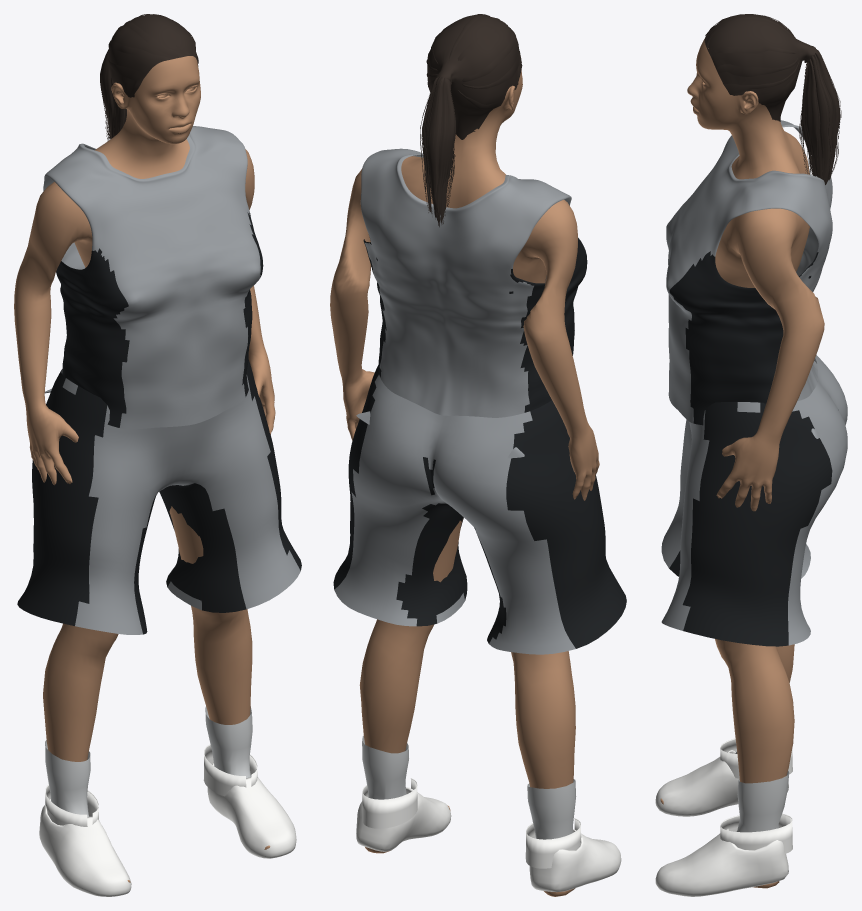
File: mskba-female-player-v1-C_A-jYPE.glb
3 renders of one model, left to right at view 1: azimuth 30°, elevation 25°; view 2: azimuth 150°, elevation 25°; view 3: azimuth 270°, elevation 25°, orthographic. The views are drawn at different scales.
Visible parts, largest first — view 1: MSKBA_Uniform_Jersey_Mesh, MSKBA_Uniform_Shorts_Mesh, Body, MSKBA_Shoes_Primary_Mesh, MSKBA_Hair_Female_Ponytail_Mesh, MSKBA_Shoes_Accent_Mesh; view 2: MSKBA_Uniform_Shorts_Mesh, MSKBA_Uniform_Jersey_Mesh, Body, MSKBA_Hair_Female_Ponytail_Mesh, MSKBA_Shoes_Primary_Mesh, MSKBA_Shoes_Accent_Mesh; view 3: MSKBA_Uniform_Shorts_Mesh, Body, MSKBA_Uniform_Jersey_Mesh, MSKBA_Shoes_Primary_Mesh, MSKBA_Hair_Female_Ponytail_Mesh, MSKBA_Shoes_Accent_Mesh.
Part boxes in pixels (left/top/right/bottom): MSKBA_Uniform_Jersey_Mesh: left=43, top=126, right=263, bottom=429; MSKBA_Uniform_Shorts_Mesh: left=17, top=360, right=301, bottom=634; Body: left=14, top=56, right=275, bottom=882; MSKBA_Shoes_Primary_Mesh: left=39, top=706, right=296, bottom=896; MSKBA_Hair_Female_Ponytail_Mesh: left=100, top=14, right=198, bottom=141; MSKBA_Shoes_Accent_Mesh: left=45, top=744, right=257, bottom=826; MSKBA_Uniform_Shorts_Mesh: left=333, top=364, right=626, bottom=654; MSKBA_Uniform_Jersey_Mesh: left=356, top=148, right=587, bottom=458; Body: left=330, top=56, right=599, bottom=896; MSKBA_Hair_Female_Ponytail_Mesh: left=420, top=14, right=522, bottom=227; MSKBA_Shoes_Primary_Mesh: left=356, top=736, right=621, bottom=892; MSKBA_Shoes_Accent_Mesh: left=362, top=778, right=581, bottom=868; MSKBA_Uniform_Shorts_Mesh: left=661, top=355, right=847, bottom=646; Body: left=660, top=38, right=824, bottom=888; MSKBA_Uniform_Jersey_Mesh: left=666, top=120, right=832, bottom=438; MSKBA_Shoes_Primary_Mesh: left=655, top=750, right=789, bottom=896; MSKBA_Hair_Female_Ponytail_Mesh: left=704, top=14, right=841, bottom=184; MSKBA_Shoes_Accent_Mesh: left=720, top=738, right=792, bottom=853.
Size of the model in its own units: 0.5285 by 1.61 by 0.3365.
